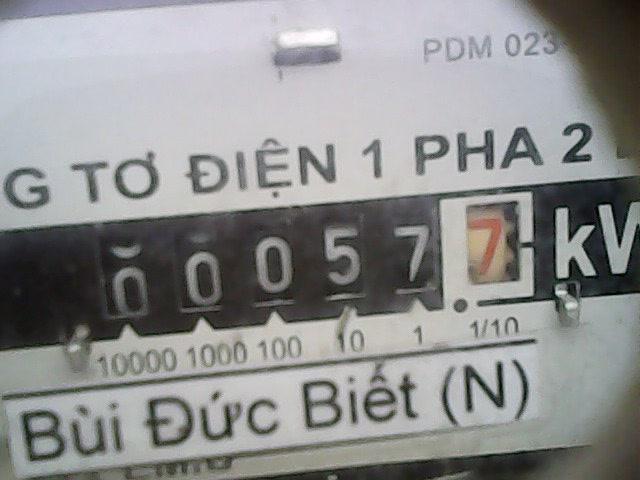phy_plate: (83, 185, 550, 329)
